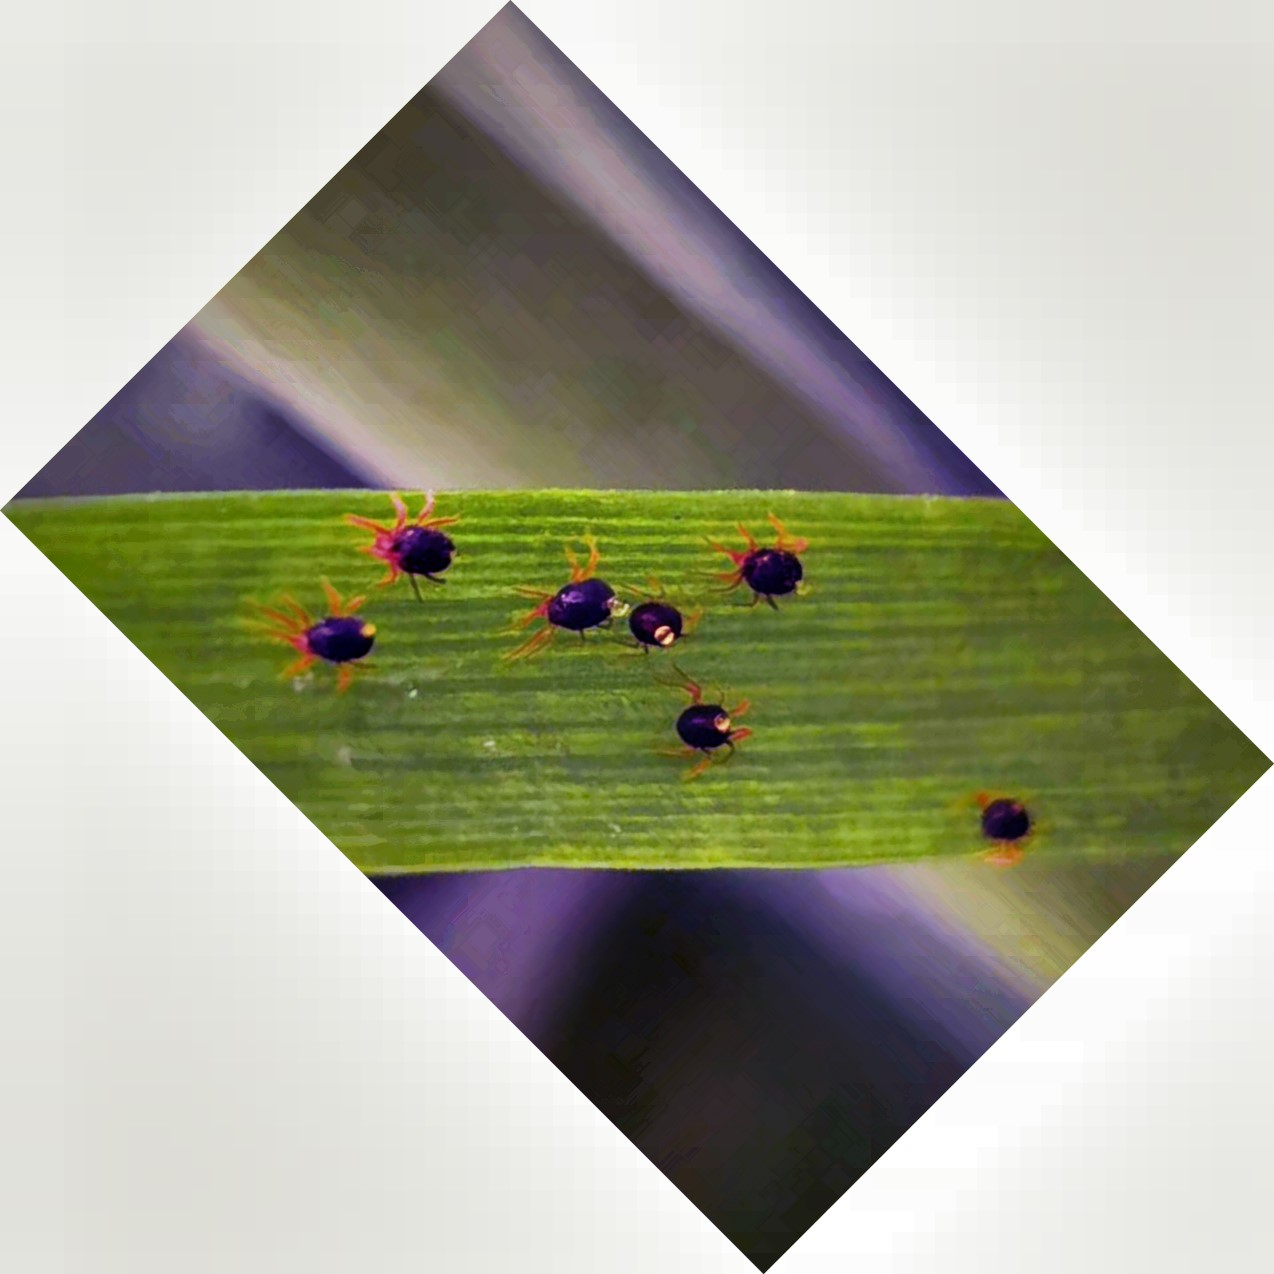Wheat Red Spider: (220, 482, 480, 703)
